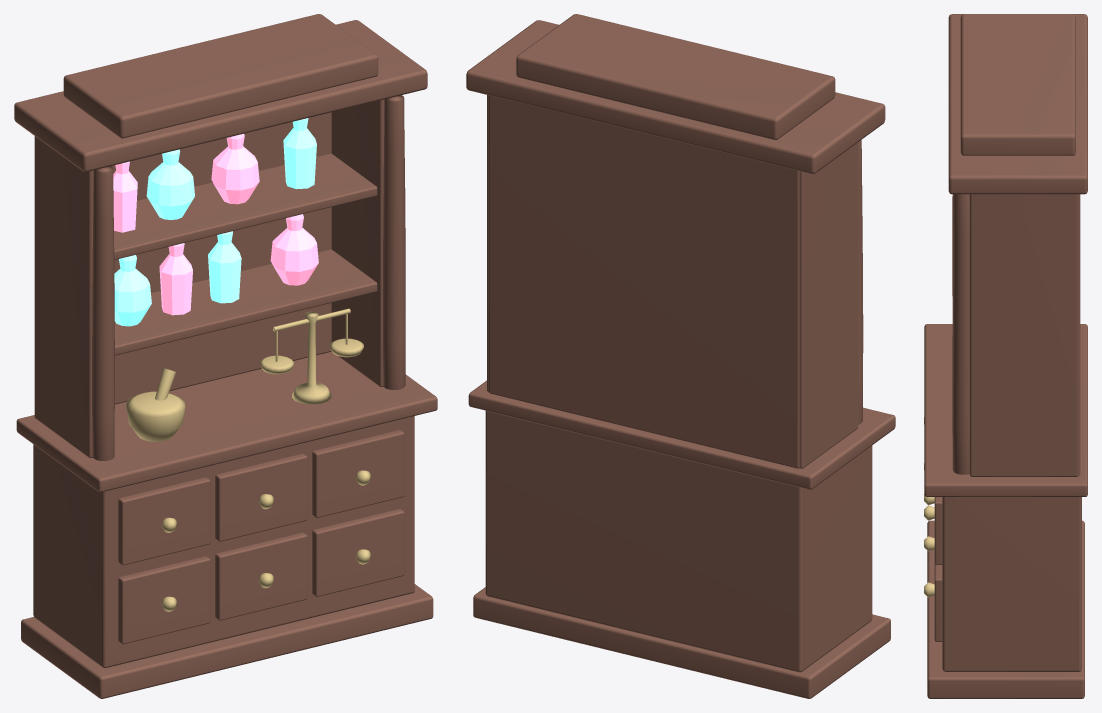
Rendered from webtoon-fantasy-potion-apothecary-cabinet-v13.glb.
3 renders of one model, left to right at view 1: azimuth 30°, elevation 25°; view 2: azimuth 150°, elevation 25°; view 3: azimuth 270°, elevation 25°, orthographic. The views are drawn at different scales.
Parts seen in each view (by area): view 1: ApothecaryMahoganyCabinet, ApothecaryEmeraldElixirs, ApothecaryRubyElixirs, ApothecaryBrassHardware; view 2: ApothecaryMahoganyCabinet; view 3: ApothecaryMahoganyCabinet, ApothecaryBrassHardware.
Boxes of the visible parts, x1,y1,x2,y2 form: ApothecaryMahoganyCabinet: [14, 14, 437, 698]; ApothecaryEmeraldElixirs: [114, 118, 316, 326]; ApothecaryRubyElixirs: [113, 133, 318, 315]; ApothecaryBrassHardware: [126, 308, 370, 611]; ApothecaryMahoganyCabinet: [466, 14, 895, 698]; ApothecaryMahoganyCabinet: [924, 14, 1087, 698]; ApothecaryBrassHardware: [924, 417, 934, 597].
Bounding box in the file's own units: 1.28 × 1.99 × 0.541.
